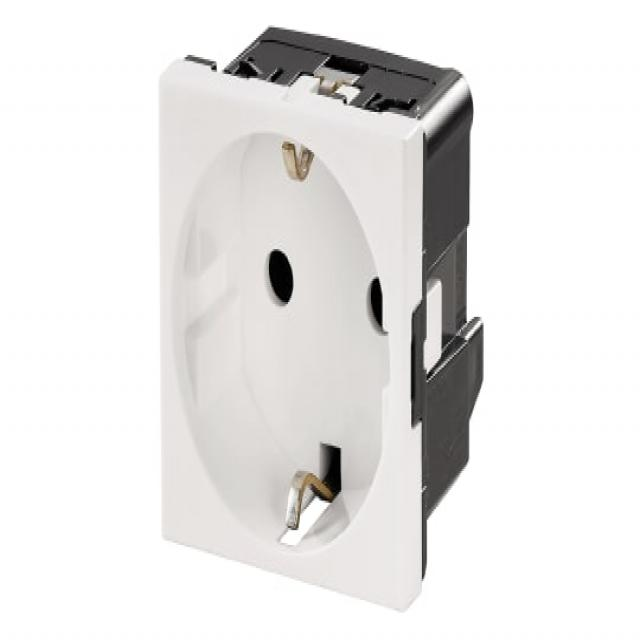typeb: (112, 2, 508, 624)
